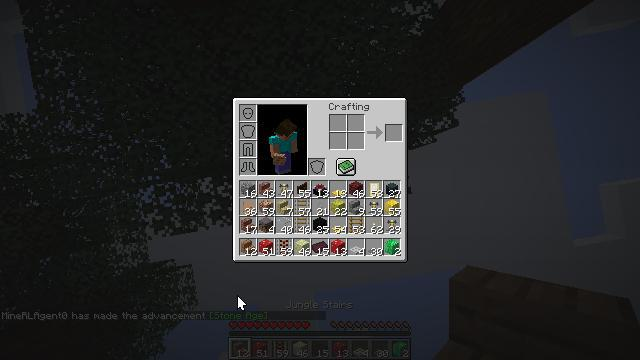cursor: (295, 237, 311, 247)
